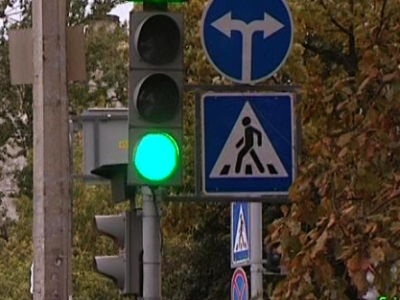crosswalk: (204, 95, 294, 189), (231, 204, 250, 261)
trafficlight_green: (131, 12, 182, 181)
